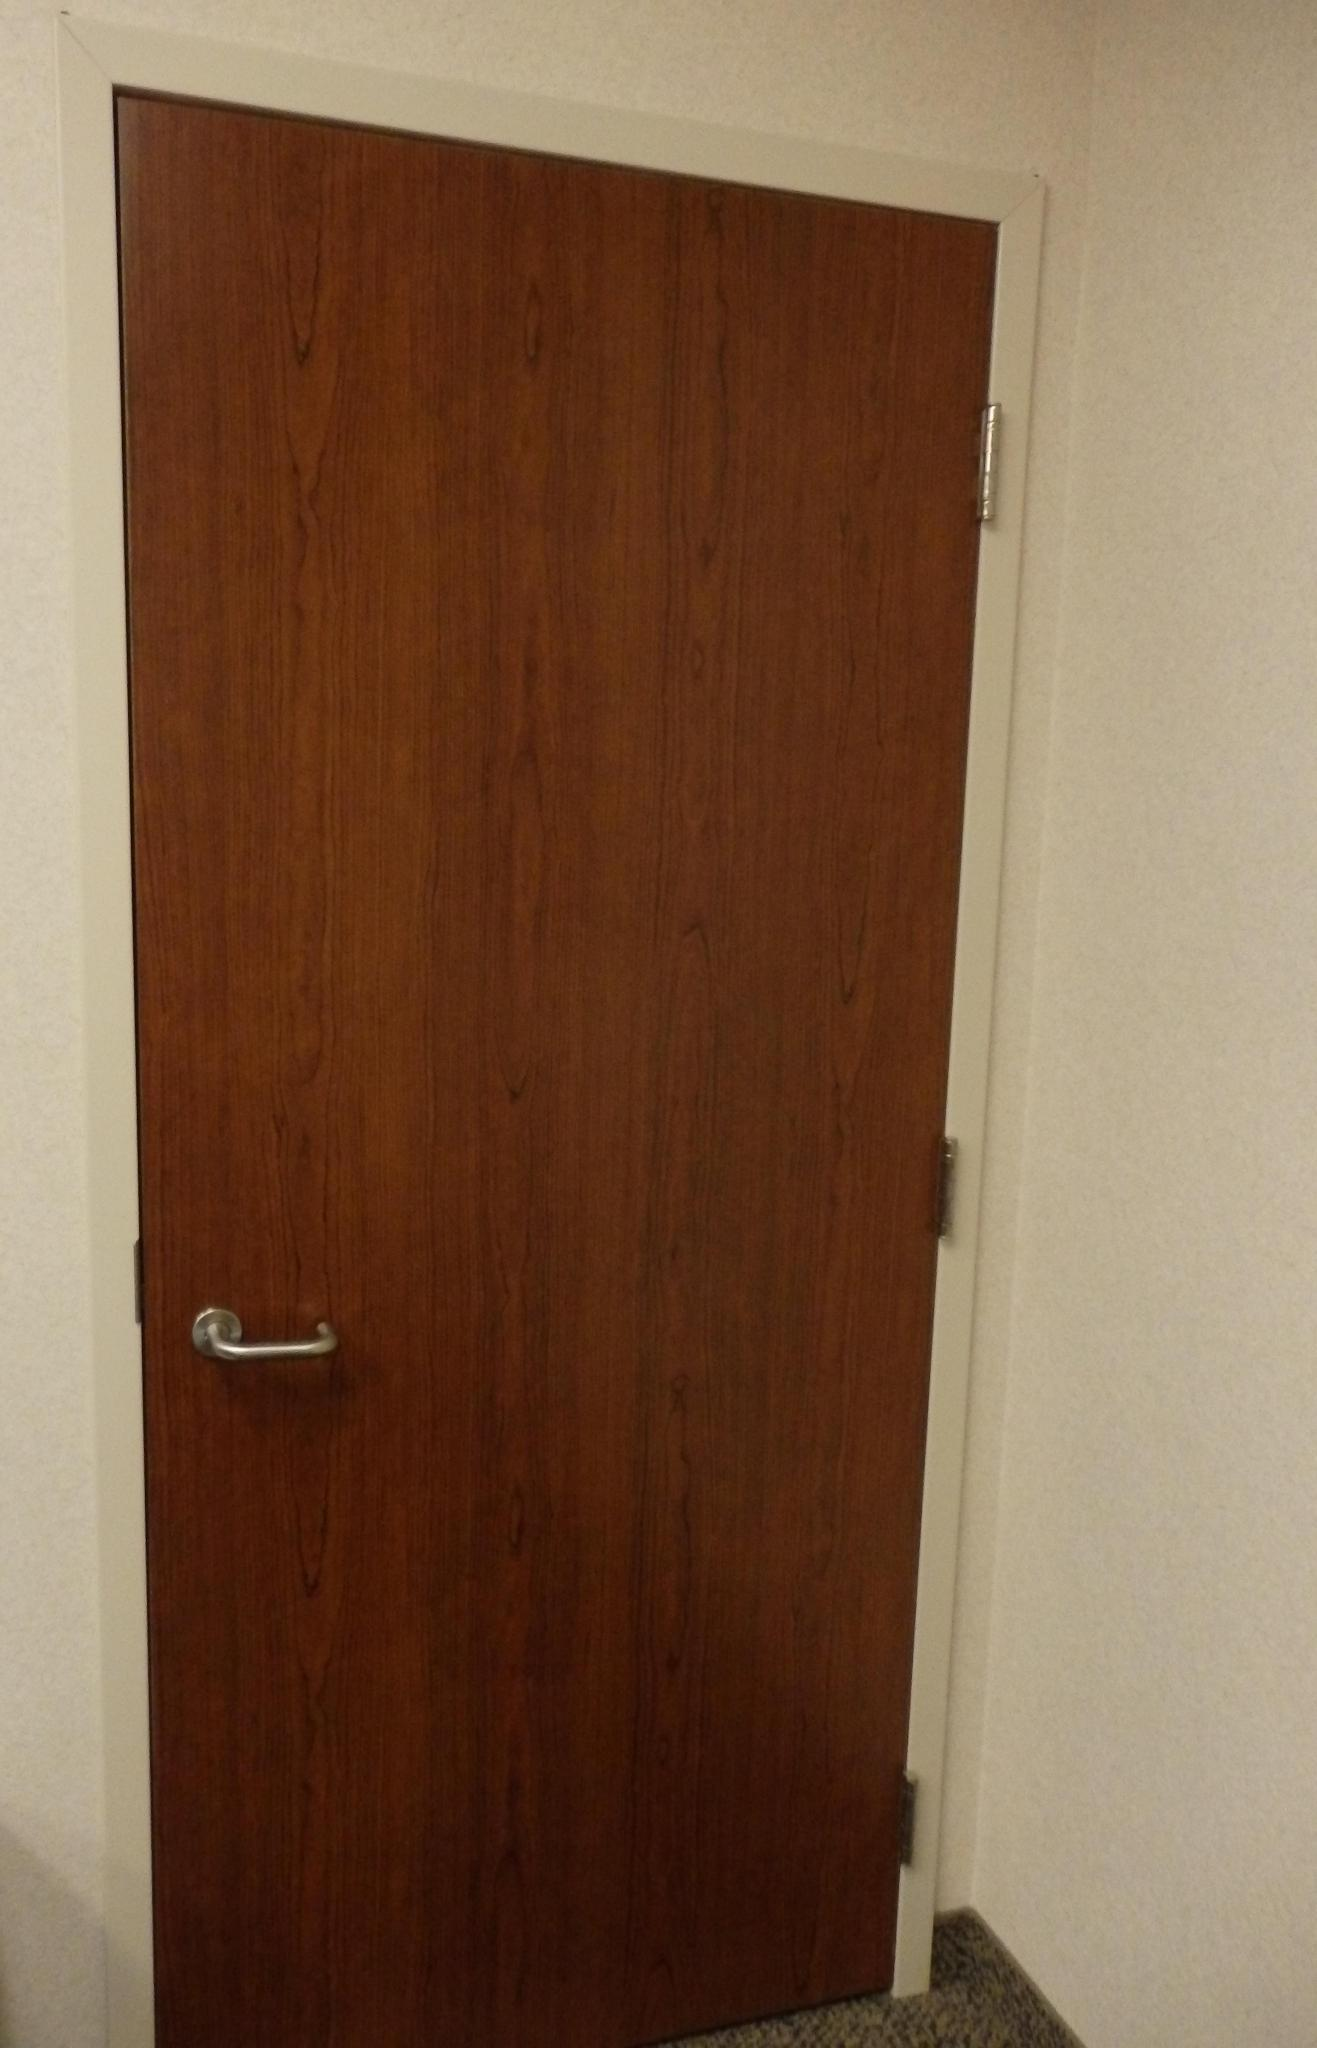door: (155, 249, 954, 2036)
handle: (191, 1294, 348, 1394)
